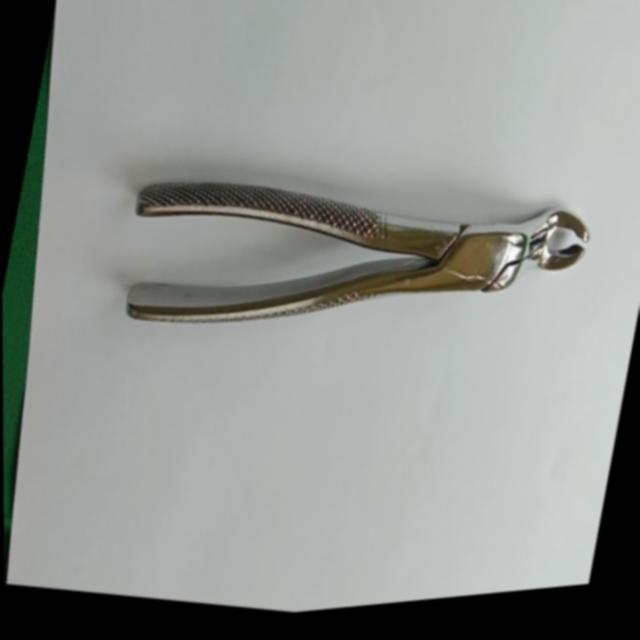BayonetForcep: (102, 112, 607, 430)
